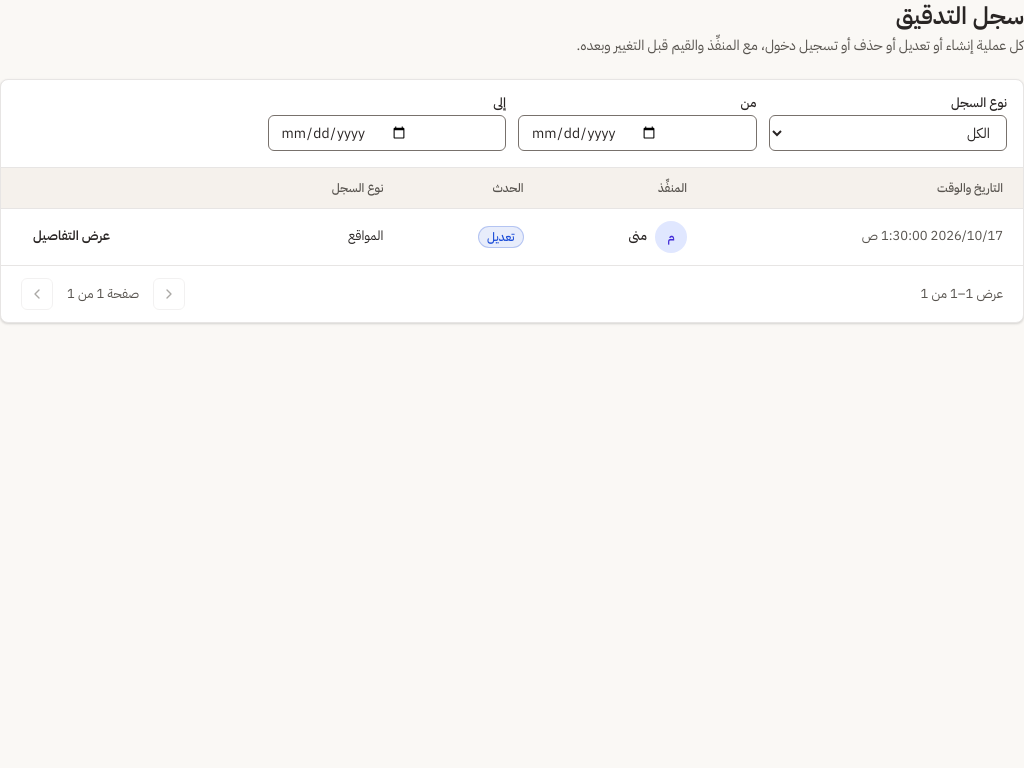
an empty string value shows as quotes and objects are indented
Click the button "عرض التفاصيل".
click(72, 237)  # box [21,221,122,253]
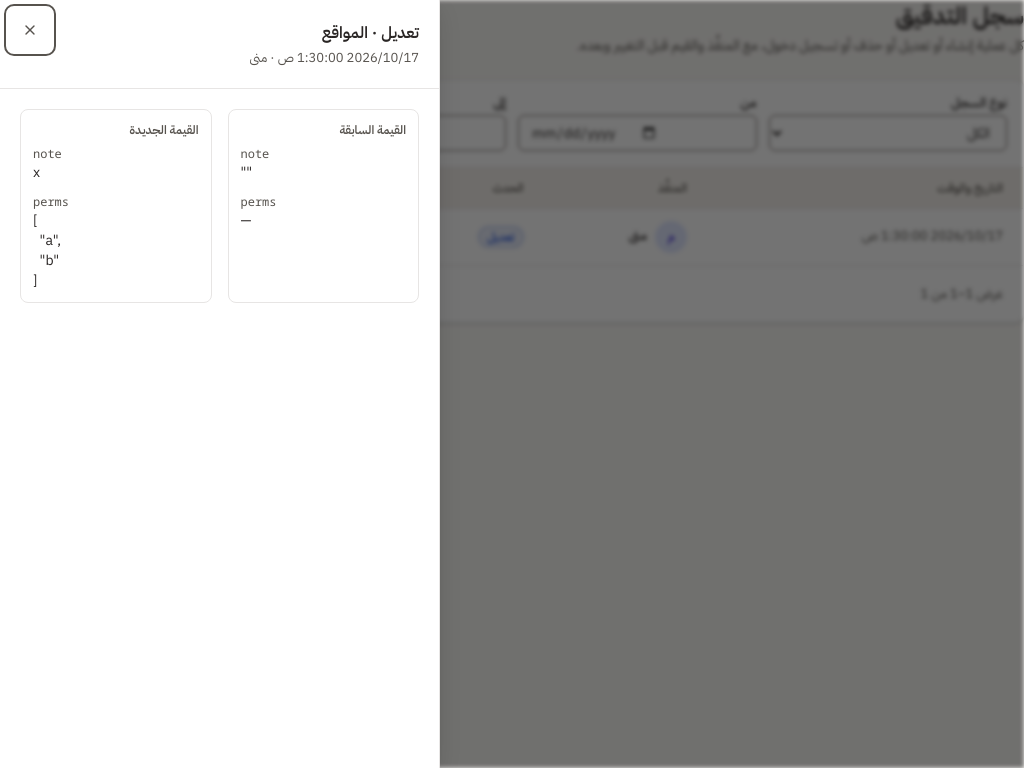
Check: the text "\"\"" is shown, box [240,163,252,181]
